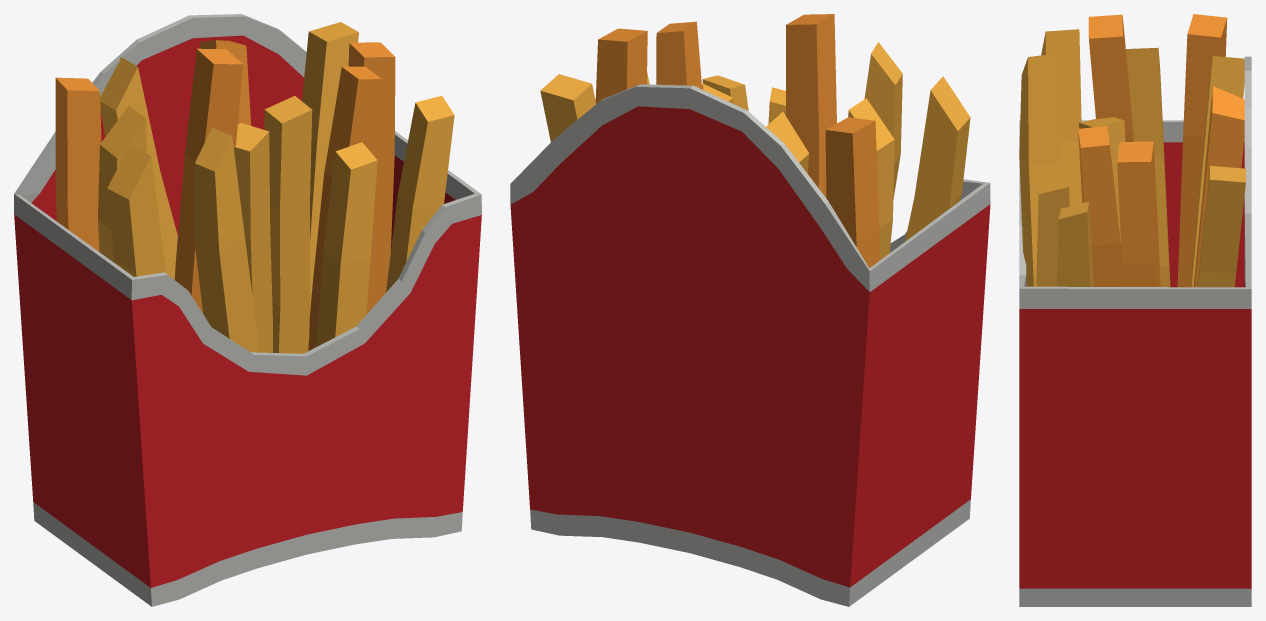
The model's file is French_Fries.fbx.
3 views of the same model, side by side, from view 1: azimuth 30°, elevation 25°; view 2: azimuth 150°, elevation 25°; view 3: azimuth 270°, elevation 25° (orthographic). The views are drawn at different scales.
Parts seen in each view (by area): view 1: French_Fries; view 2: French_Fries; view 3: French_Fries.
Part boxes in pixels (box(x1,y1,x2,y2)): French_Fries: box(14, 14, 481, 606); French_Fries: box(510, 14, 990, 606); French_Fries: box(1019, 14, 1251, 606).
Size of the model in its own units: 10.83 by 14.67 by 6.31.
